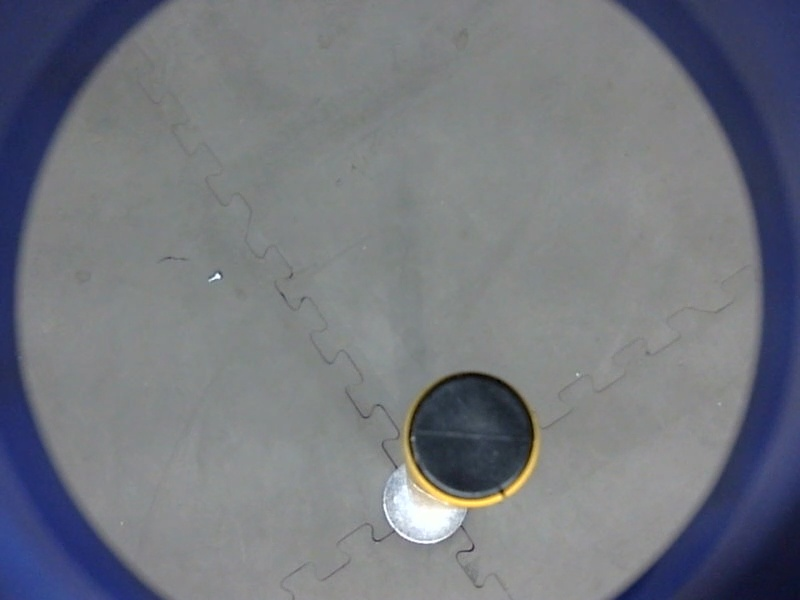tip: (398, 366, 548, 512)
